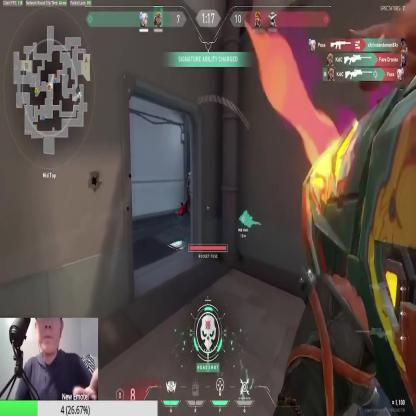enemy: (186, 168, 195, 220)
enemy_head: (188, 170, 192, 179)
